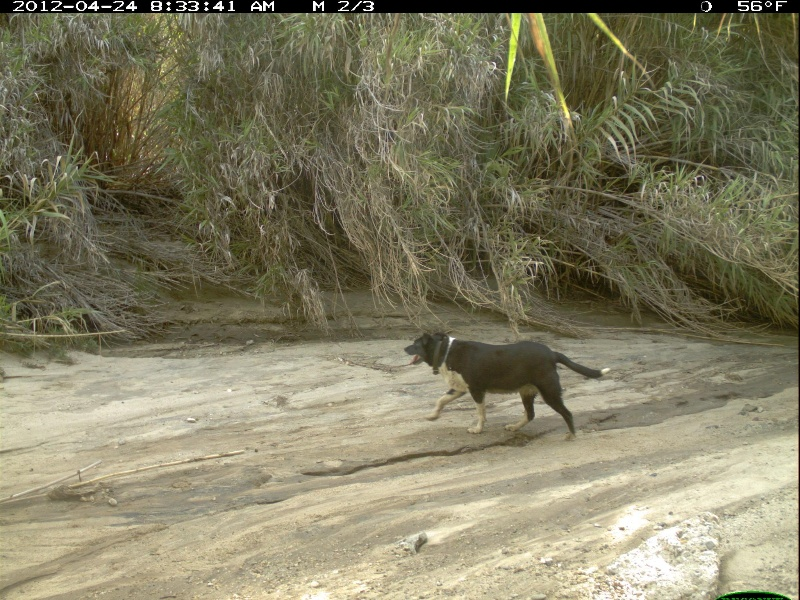dog: (404, 330, 616, 448)
